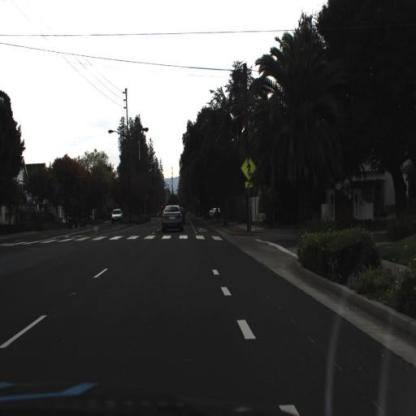car: (154, 196, 185, 244), (110, 206, 125, 227), (181, 203, 190, 230)
